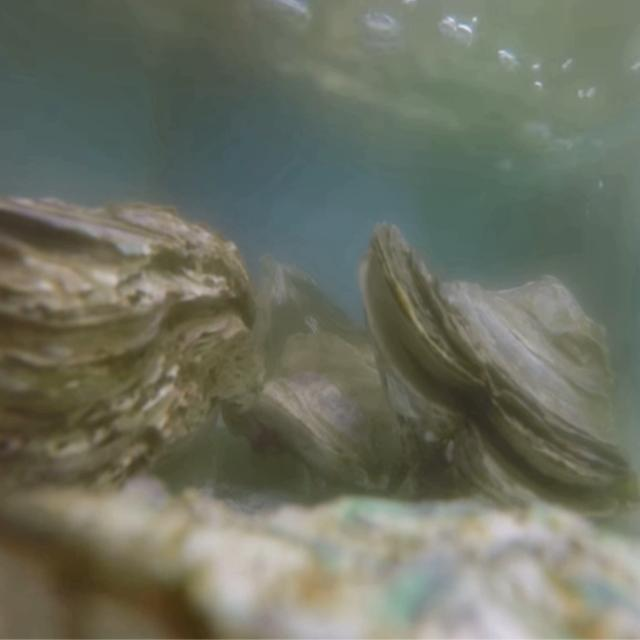Oyster-Closed: (0, 197, 258, 526)
Oyster-Indeterminate: (0, 478, 640, 640), (262, 334, 418, 504)
Oyster-Open: (358, 221, 640, 532)
